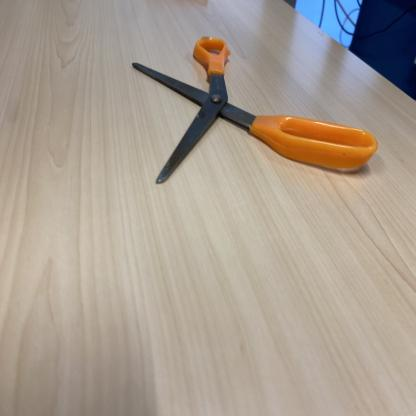scissors: (129, 31, 380, 192)
